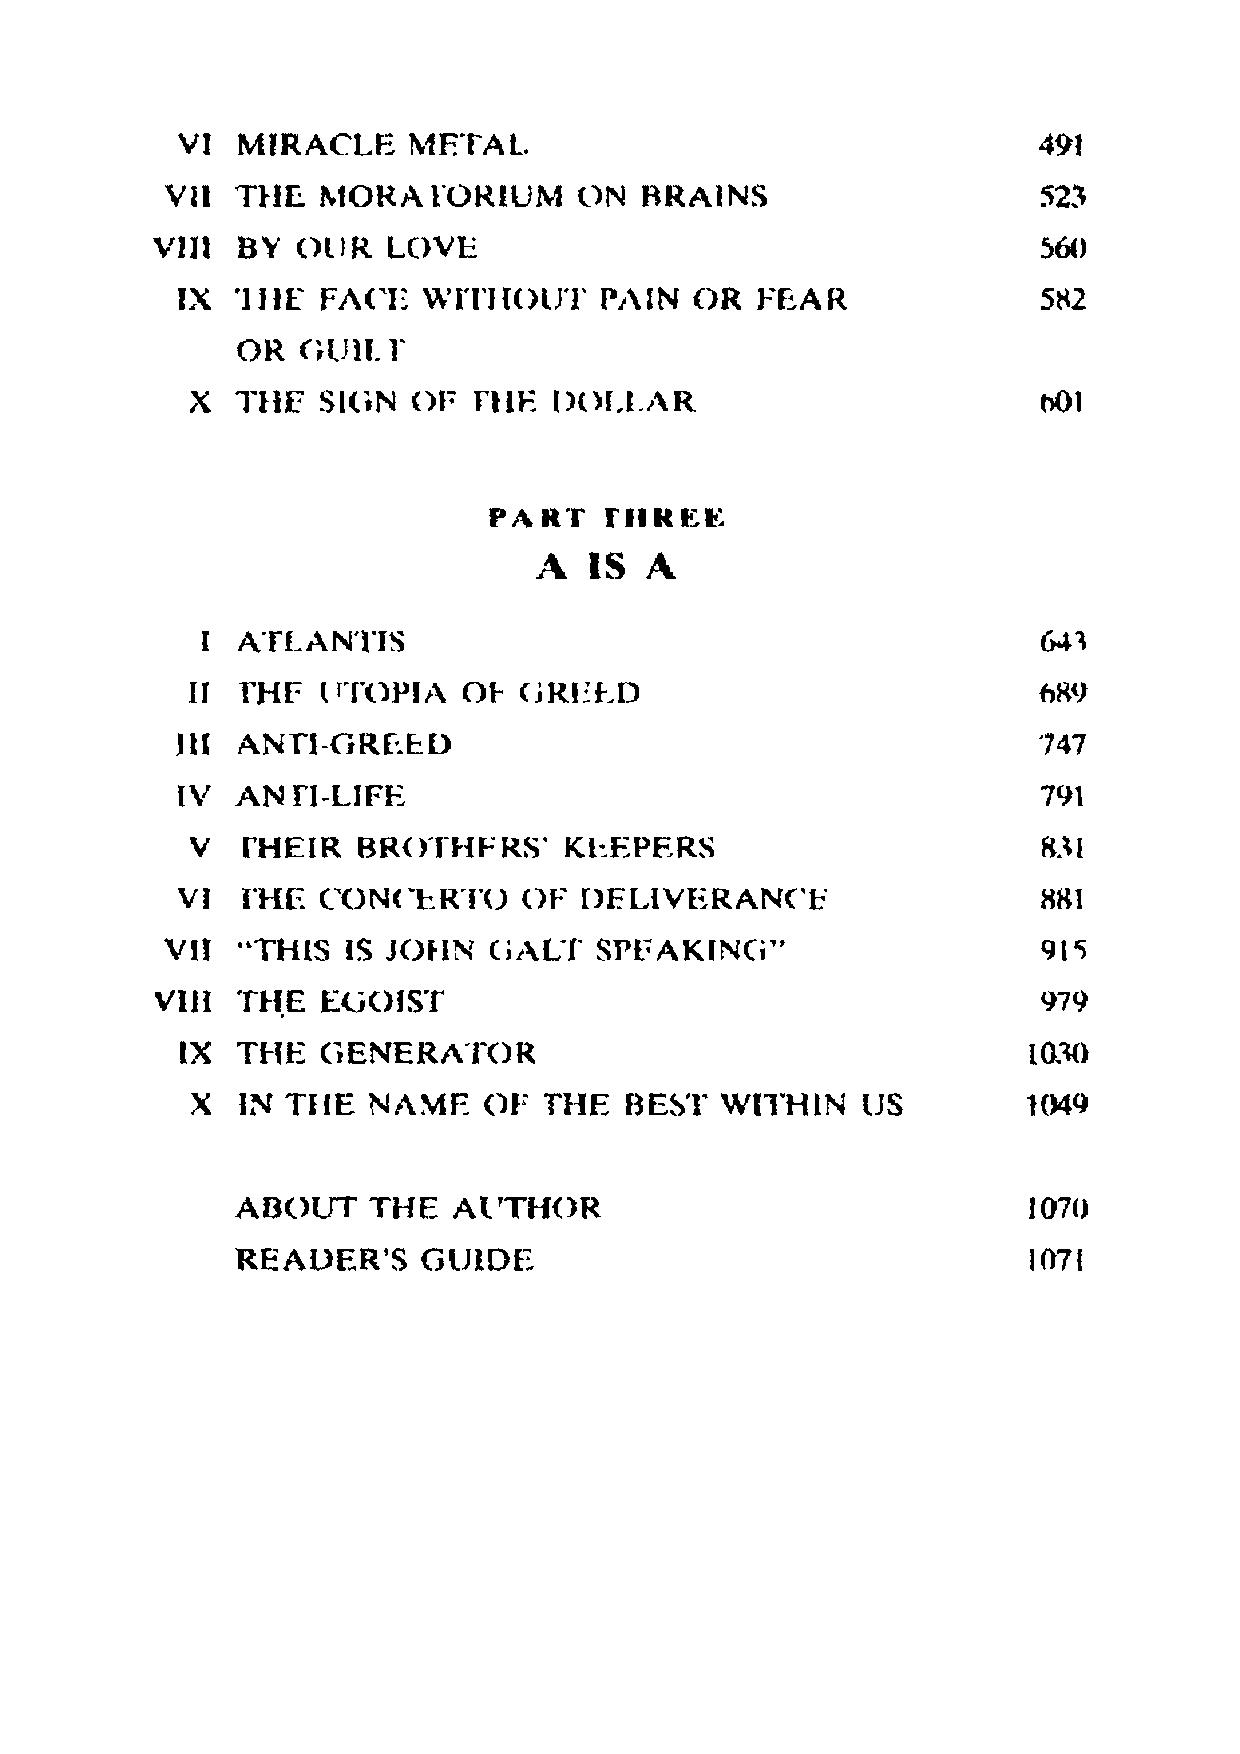TOC_chapter: (157, 278, 843, 364), (189, 1082, 905, 1129), (153, 170, 777, 221), (178, 875, 829, 921), (162, 930, 782, 968), (183, 823, 718, 866), (484, 503, 741, 592), (240, 1177, 611, 1231), (164, 109, 530, 161), (183, 381, 692, 417), (178, 679, 650, 713), (231, 1235, 546, 1284), (176, 1027, 539, 1070), (166, 723, 450, 768), (153, 981, 446, 1023), (148, 229, 472, 264), (164, 774, 415, 811), (187, 617, 404, 654)
TOC_pagenumber: (1019, 1083, 1102, 1135), (1019, 1023, 1108, 1070), (1029, 713, 1099, 770), (1024, 1180, 1096, 1231), (1031, 109, 1092, 166), (1027, 768, 1092, 820), (1020, 1232, 1095, 1275), (1027, 663, 1092, 711), (1029, 819, 1090, 870), (1037, 612, 1095, 664), (1027, 972, 1095, 1015), (1027, 929, 1102, 966), (1029, 878, 1090, 921), (1036, 225, 1092, 268), (1036, 176, 1092, 212), (1033, 386, 1100, 413), (1036, 285, 1092, 314)
